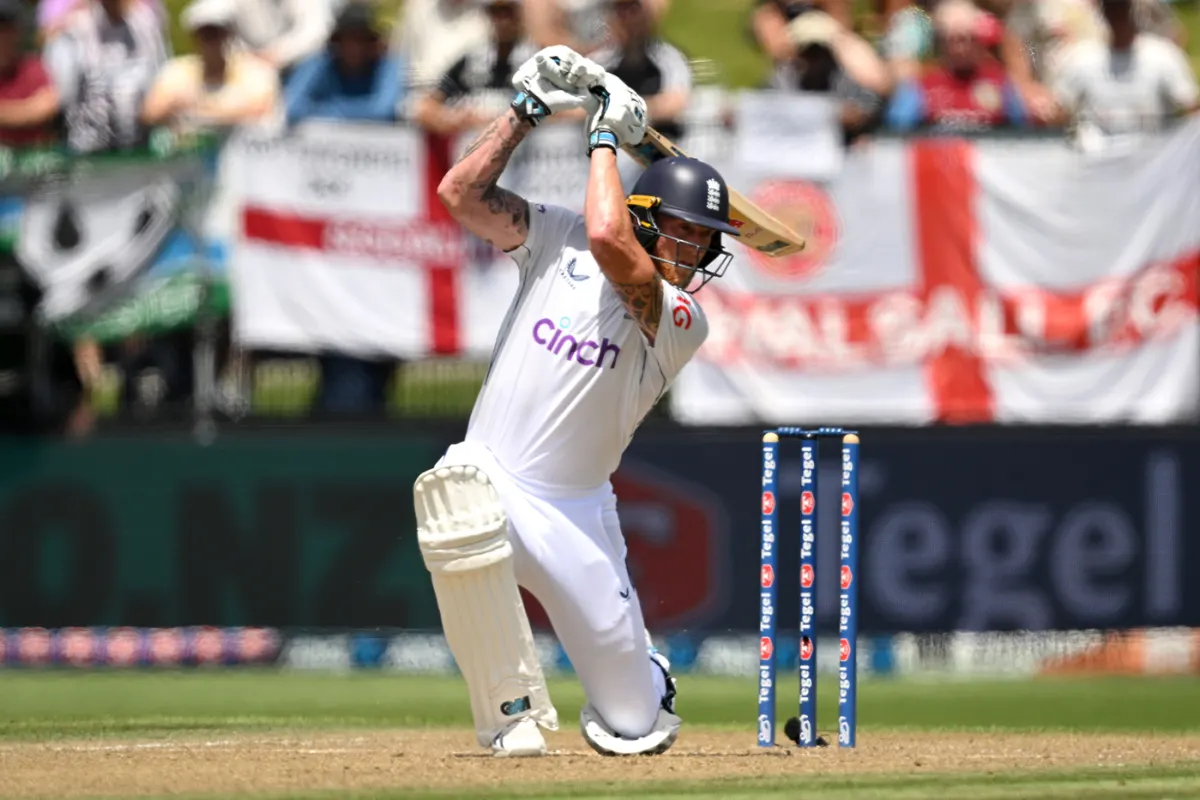Defence: (139, 3, 1064, 800)
